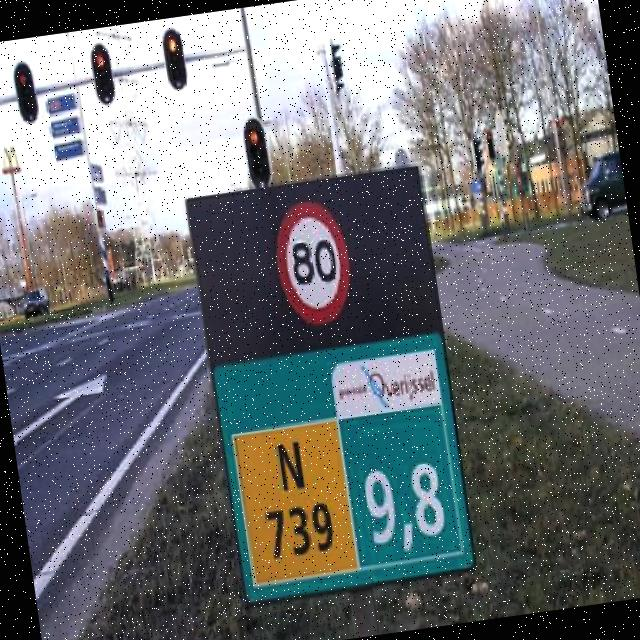Ograniczenie predkosci do 80: (266, 188, 360, 338)
